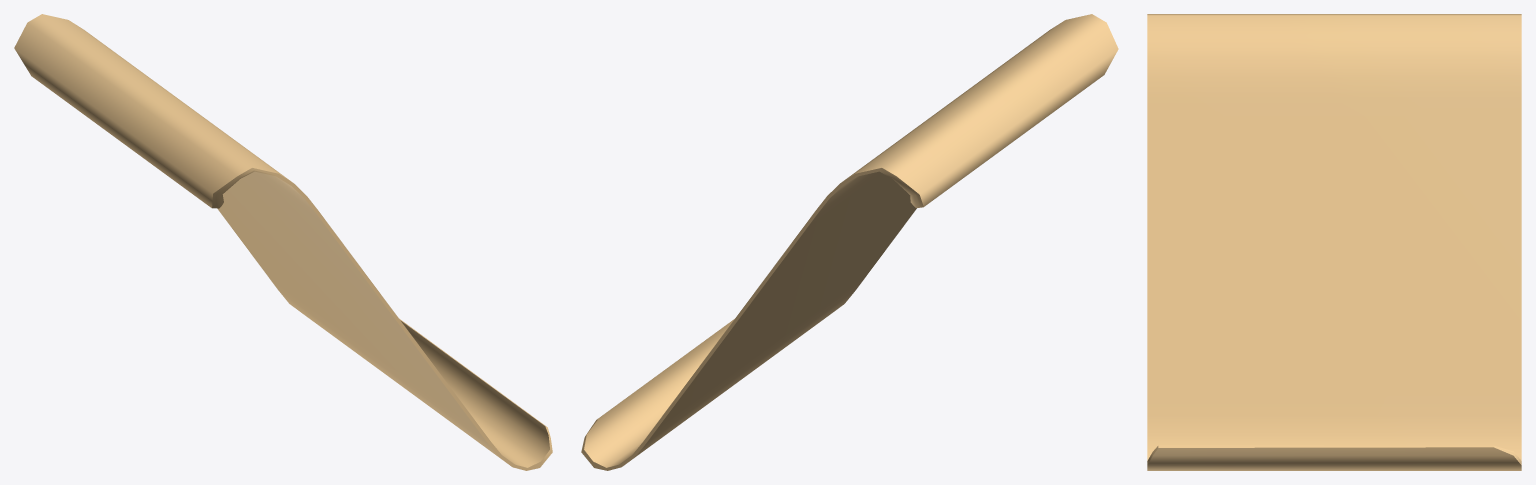
Rendered from LetterScroll.fbx.
The picture shows the model from 3 angles, left to right: view 1: azimuth 30°, elevation 25°; view 2: azimuth 150°, elevation 25°; view 3: azimuth 270°, elevation 25°; orthographic projection. The views are drawn at different scales.
Parts seen in each view (by area): view 1: pasted__pasted__pCube1; view 2: pasted__pasted__pCube1; view 3: pasted__pasted__pCube1.
Boxes of the visible parts, left/top/right/bottom form: pasted__pasted__pCube1: left=14, top=14, right=552, bottom=470; pasted__pasted__pCube1: left=581, top=14, right=1118, bottom=470; pasted__pasted__pCube1: left=1147, top=14, right=1521, bottom=470.
Size of the model in its own units: 2.71 by 2.86 by 2.94.
Materials: 1 (1 with a texture image).
